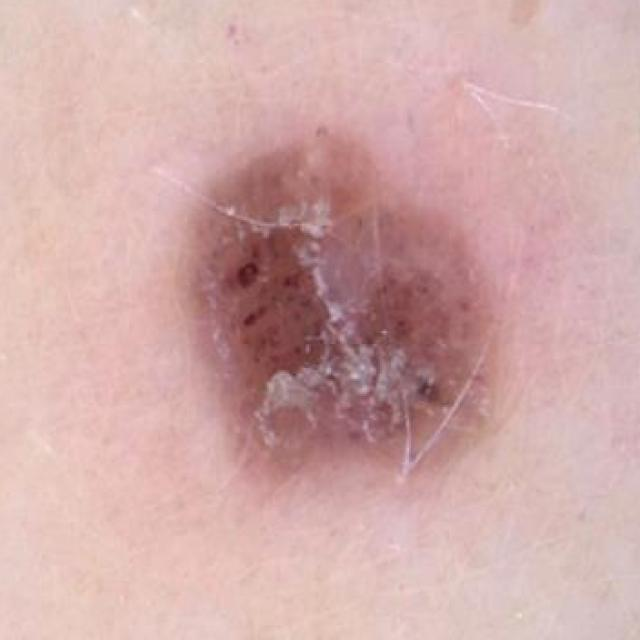BKL: (119, 91, 546, 491)
